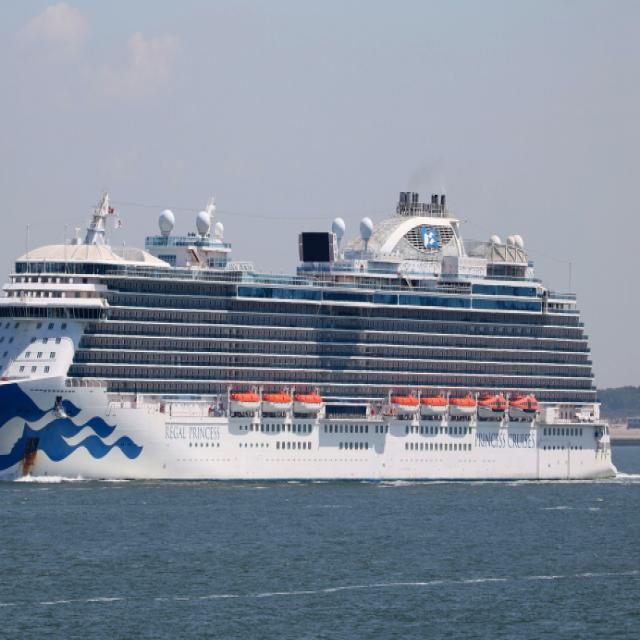cruises: (1, 184, 628, 497)
